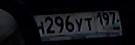license-plateSW: (34, 10, 125, 38)
